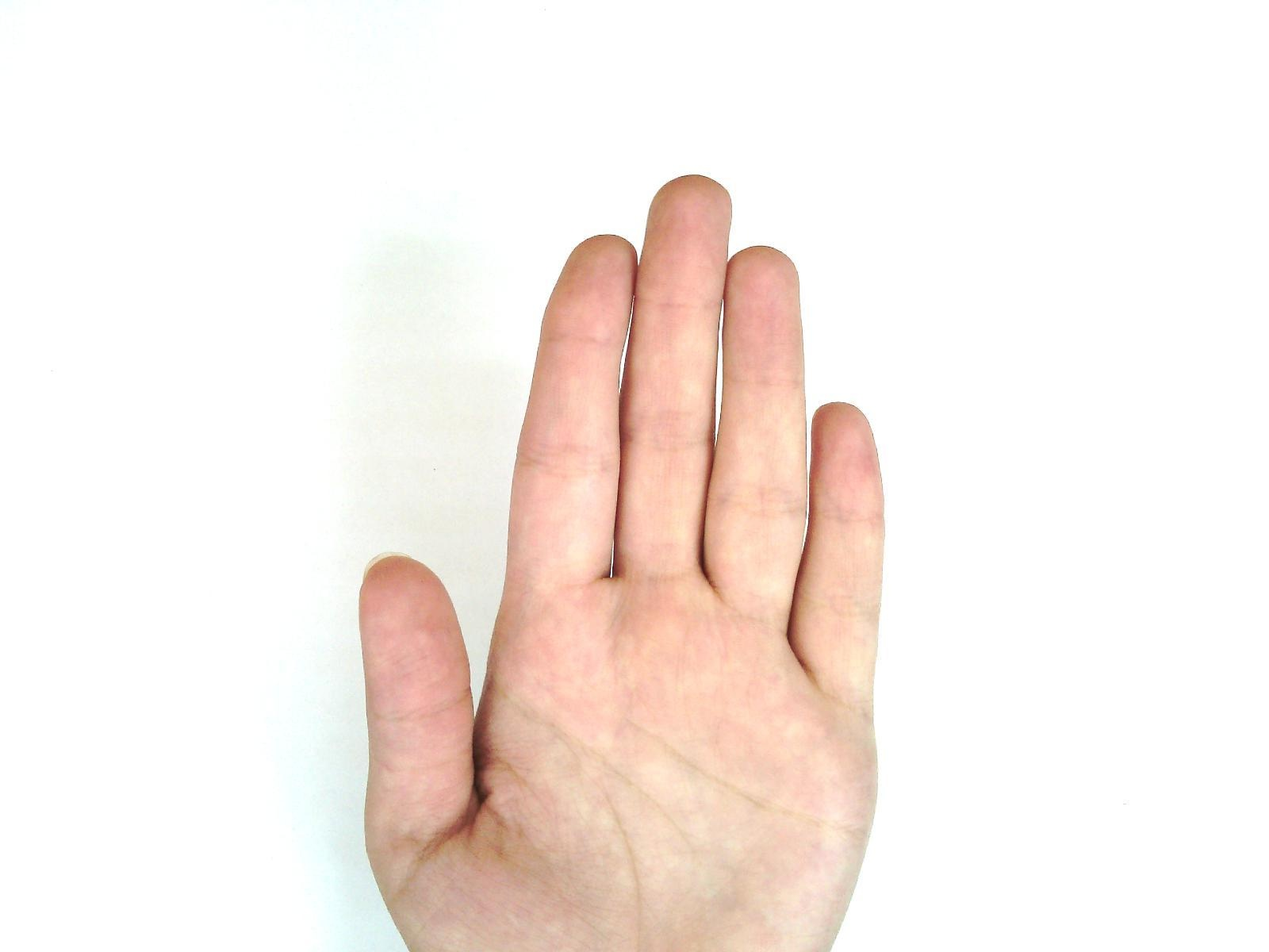open_palm: (356, 174, 889, 952)
